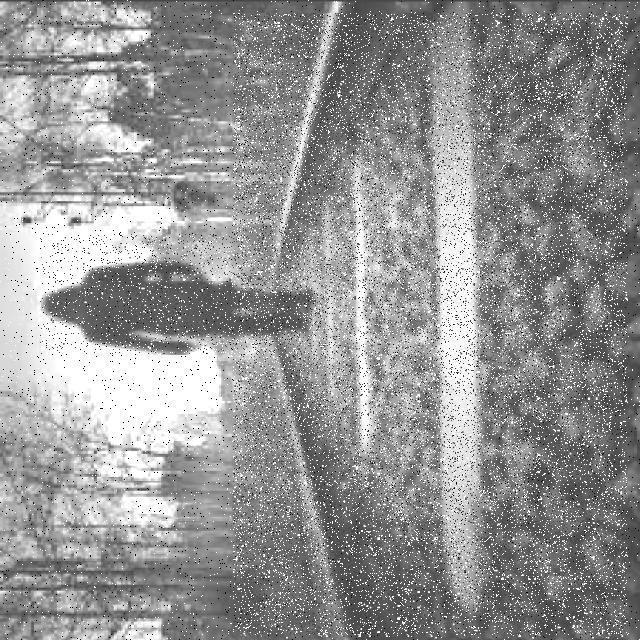rail: (235, 15, 628, 636)
